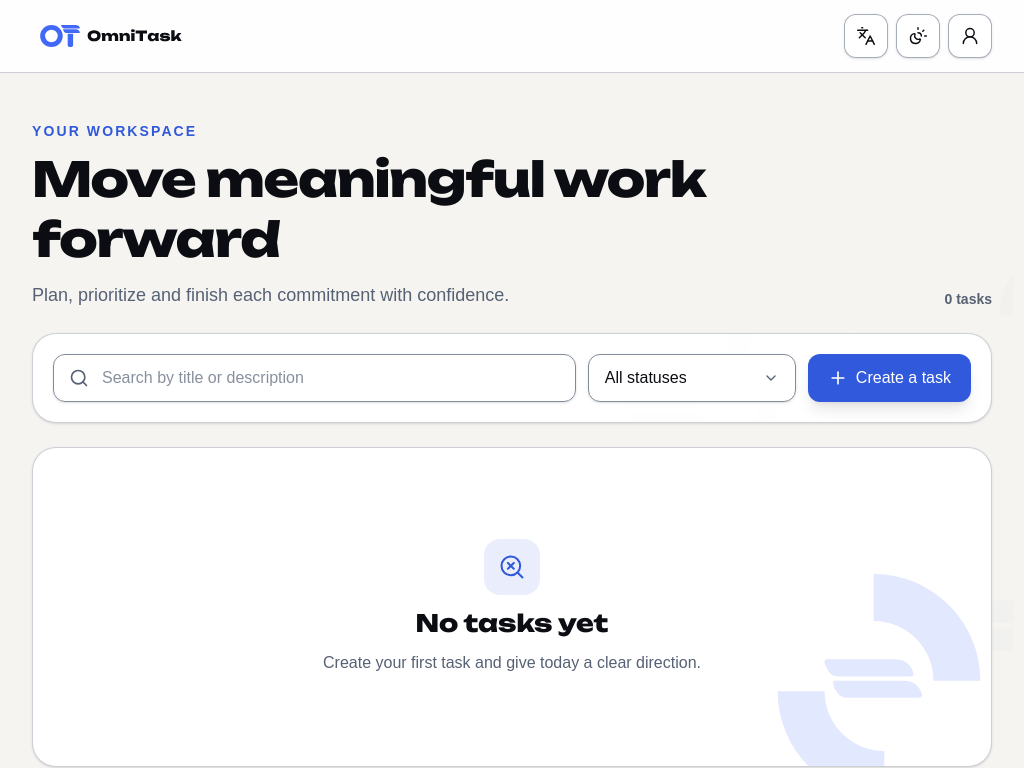
Test: task workspace › creates a task and refreshes the active list
Click the button "Create a task": x=889, y=378 [808, 354, 971, 402]
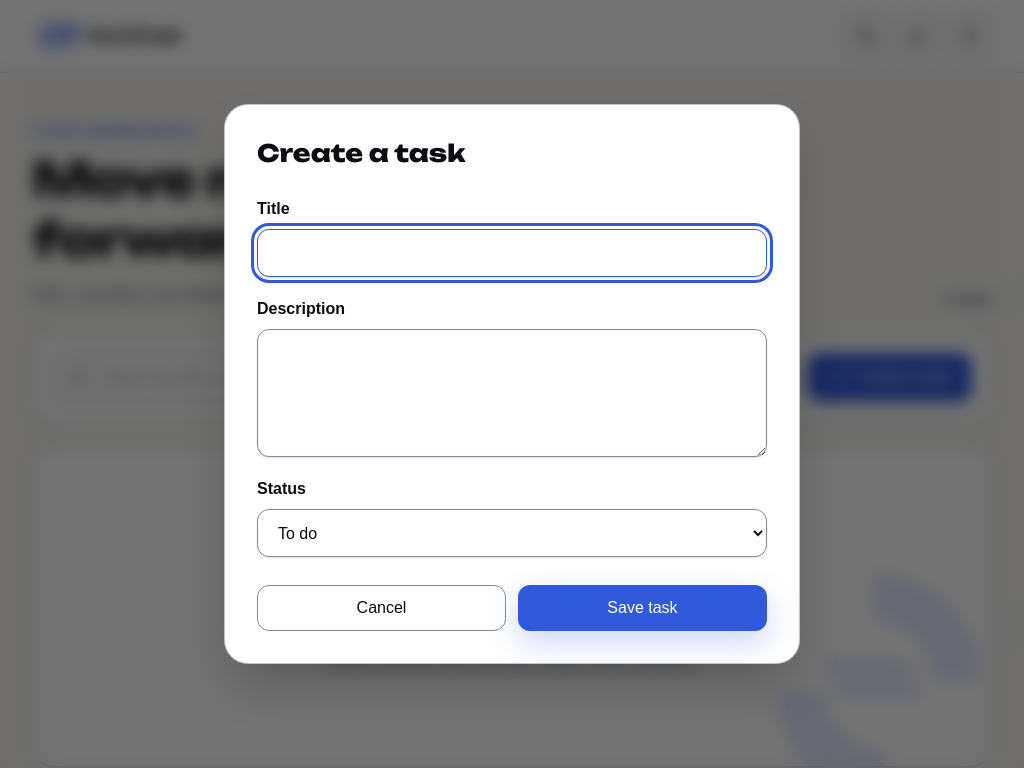
In the field labelled "Title": x=512, y=253 [257, 229, 767, 277], type "Prepare review"
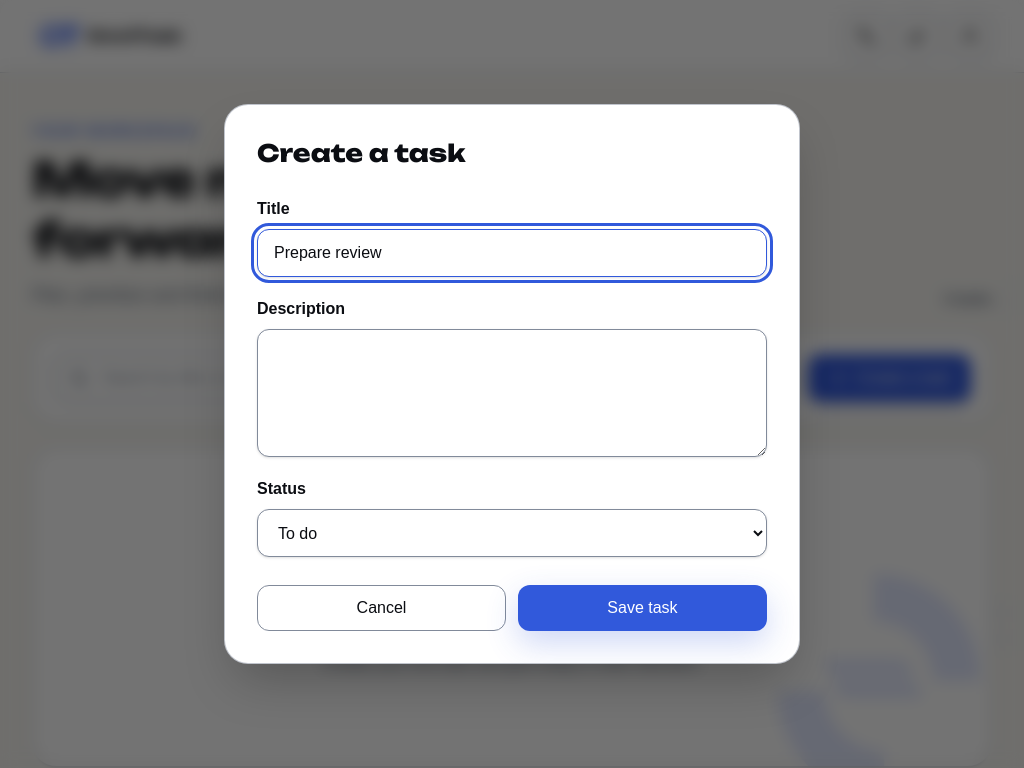
Click the button "Save task": x=642, y=608 [518, 585, 767, 631]
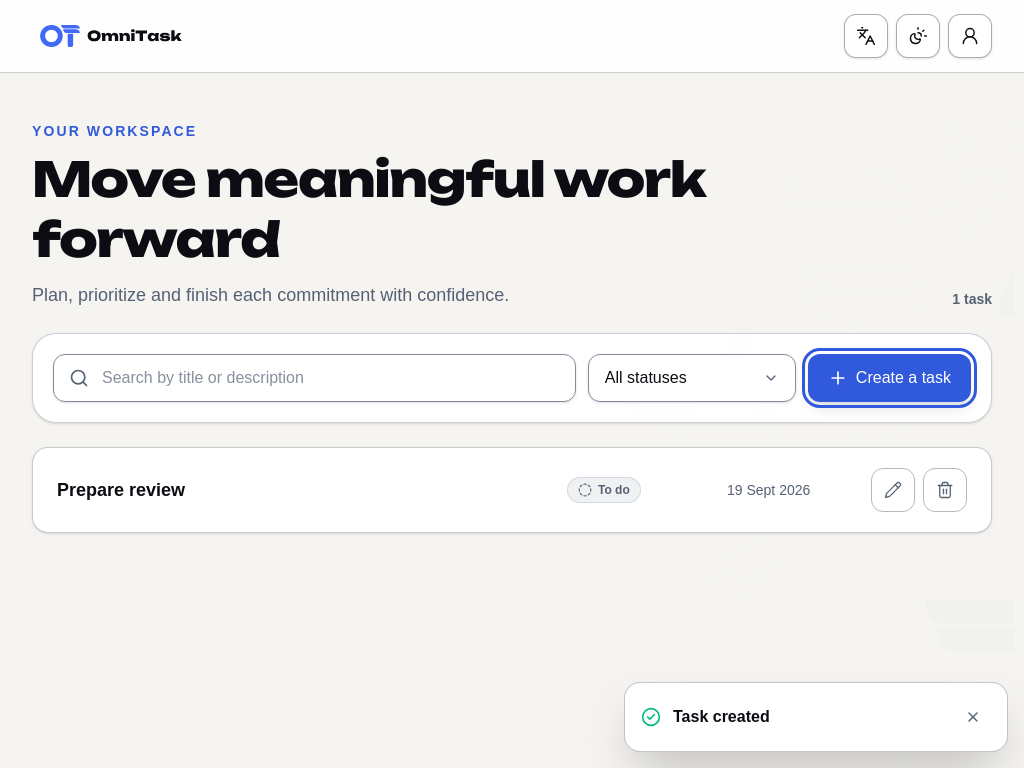
Result: the text "Task created" is shown at [673, 708, 770, 725]
Result: the heading "Prepare review" is shown at [57, 480, 185, 500]
